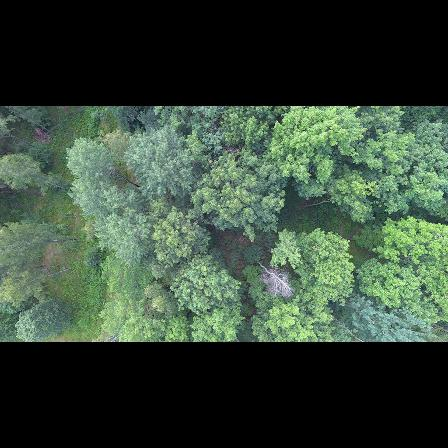Dead: (256, 259, 292, 300)
